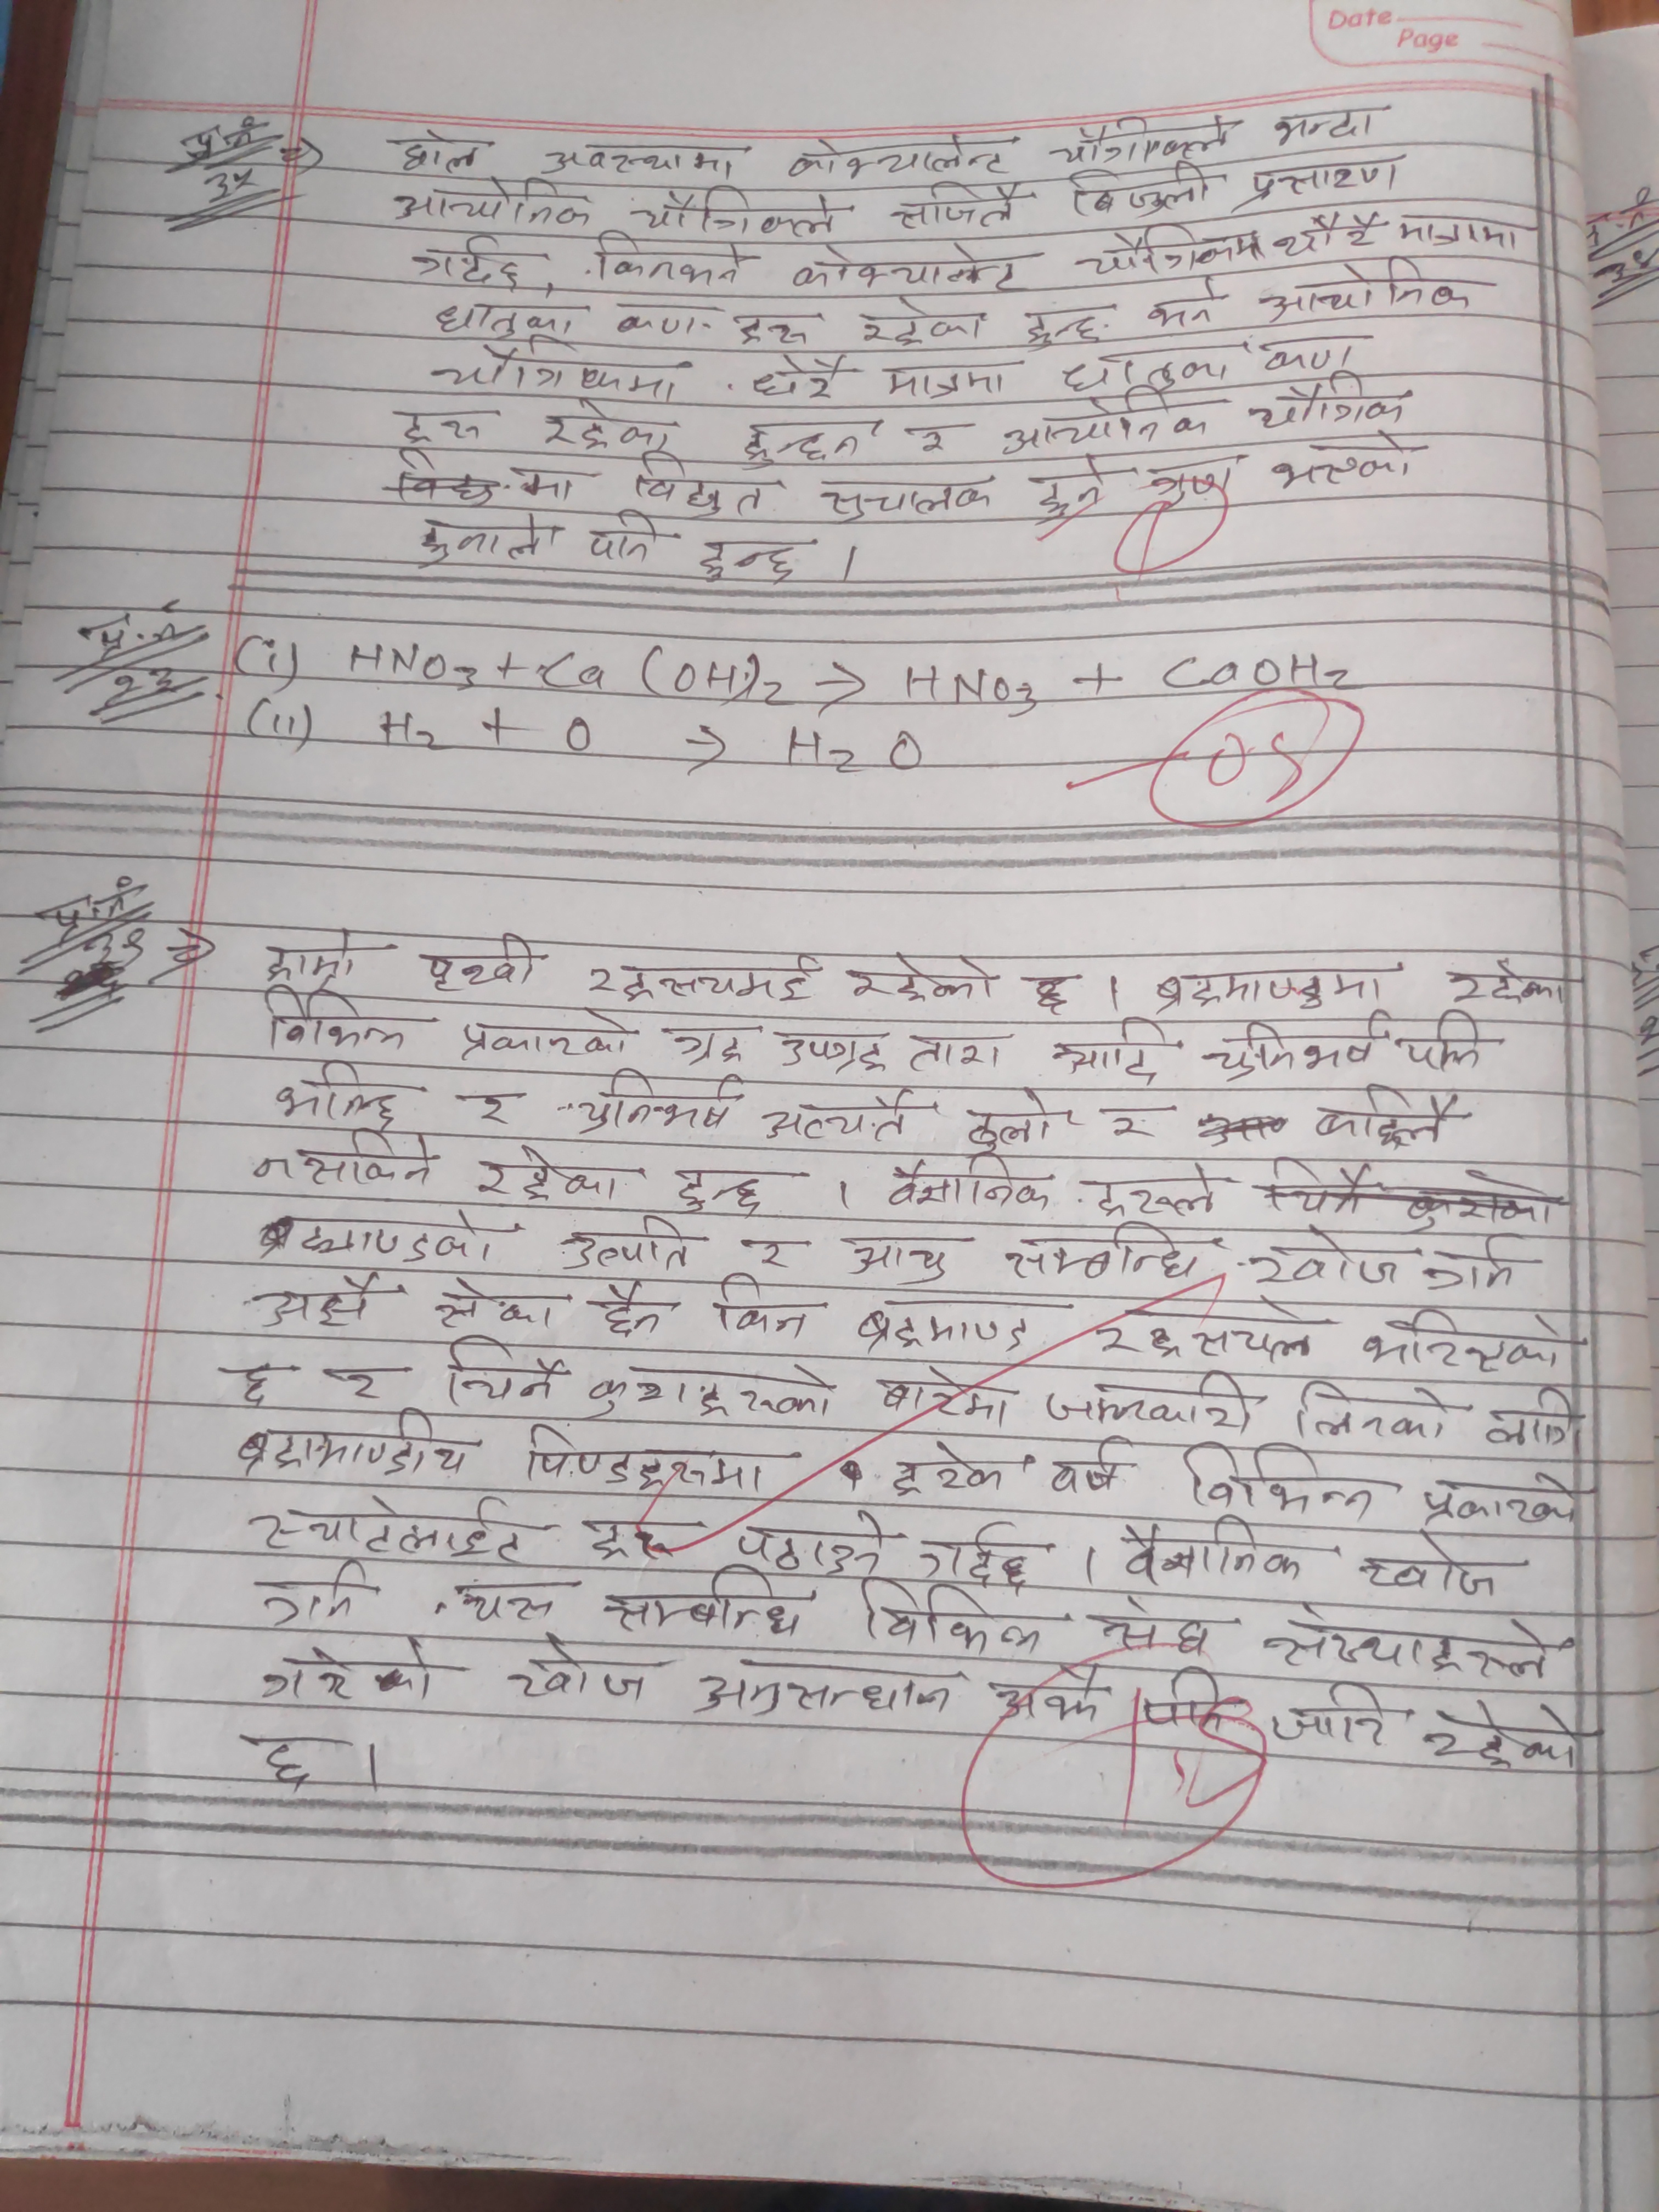text: (1263, 1602, 1556, 1688), (246, 1491, 528, 1566), (521, 1418, 775, 1494), (232, 1409, 477, 1480), (690, 1656, 958, 1719), (430, 341, 681, 406), (582, 1360, 836, 1423), (1093, 1292, 1321, 1362), (856, 1576, 1047, 1658), (1183, 1437, 1378, 1517), (256, 1207, 504, 1270), (603, 1566, 809, 1641), (1359, 1308, 1565, 1376), (788, 244, 1030, 301), (1002, 1217, 1199, 1287), (1040, 1372, 1258, 1435), (1117, 1519, 1304, 1590), (587, 948, 823, 1003), (258, 1635, 439, 1705), (1424, 1695, 1579, 1775), (997, 399, 1215, 455), (251, 1129, 439, 1191), (626, 183, 842, 237), (579, 1069, 746, 1139), (1204, 1017, 1384, 1082), (884, 1151, 1056, 1217), (1145, 963, 1396, 1008), (816, 469, 999, 529), (856, 1296, 1037, 1357), (1070, 226, 1270, 280), (1293, 1378, 1452, 1446), (387, 179, 598, 230), (786, 132, 1018, 178), (730, 1505, 889, 1571), (505, 1635, 648, 1709), (1255, 272, 1483, 317), (1230, 153, 1413, 209), (624, 453, 772, 521), (1249, 1224, 1403, 1289), (1307, 1087, 1464, 1150), (437, 1332, 563, 1409), (258, 991, 410, 1054), (458, 1007, 631, 1061), (1356, 1538, 1504, 1601), (1044, 113, 1234, 162), (1417, 1472, 1582, 1527), (873, 1366, 1016, 1430), (587, 233, 746, 291), (760, 1089, 913, 1148), (1084, 1155, 1223, 1219), (1053, 1019, 1178, 1090), (474, 1146, 622, 1205), (429, 1273, 565, 1338), (915, 1519, 1028, 1595), (270, 1061, 397, 1129), (415, 510, 552, 573), (1244, 381, 1412, 432), (540, 141, 748, 181), (845, 953, 999, 1007), (1269, 1679, 1387, 1747), (1269, 437, 1417, 491), (1058, 345, 1239, 388), (251, 1270, 380, 1331), (561, 1212, 694, 1271), (401, 233, 537, 291), (730, 415, 866, 472), (981, 1667, 1108, 1728), (1072, 160, 1213, 214), (1093, 1599, 1215, 1660), (1481, 1383, 1582, 1454), (892, 1437, 1004, 1501), (420, 932, 537, 993), (849, 298, 988, 348), (542, 401, 674, 453), (258, 1566, 361, 1632), (669, 1160, 777, 1219), (713, 1278, 814, 1341), (1422, 1235, 1525, 1296), (429, 300, 579, 341), (1277, 204, 1389, 260), (964, 1087, 1053, 1157), (1394, 209, 1528, 254), (882, 359, 1019, 402), (885, 186, 1016, 232), (845, 1233, 958, 1285), (1448, 961, 1577, 1007), (451, 1576, 561, 1629), (1042, 1435, 1133, 1498), (746, 354, 857, 404), (1030, 456, 1108, 526), (1401, 1014, 1483, 1080), (261, 930, 364, 982), (697, 540, 807, 589), (1152, 453, 1244, 510), (774, 1031, 894, 1075), (596, 1277, 671, 1343), (390, 127, 479, 179), (1256, 334, 1371, 374), (586, 510, 660, 571), (657, 1019, 746, 1069), (251, 1733, 322, 1796), (908, 1031, 1006, 1075), (1274, 108, 1389, 145), (1143, 279, 1223, 331), (399, 402, 488, 448), (1016, 308, 1112, 350), (584, 1514, 666, 1559), (1098, 1094, 1166, 1148), (608, 301, 713, 336), (326, 1364, 396, 1413), (725, 314, 814, 350), (460, 1089, 528, 1136), (511, 462, 589, 502), (1026, 965, 1077, 1017), (235, 1362, 281, 1409), (741, 1237, 795, 1271), (903, 423, 955, 456)
